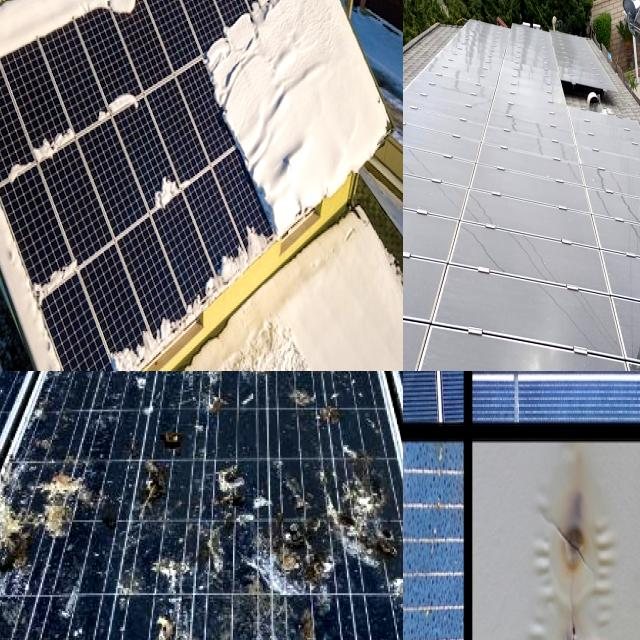bird: (22, 456, 90, 546), (296, 483, 396, 539), (216, 464, 262, 538), (154, 598, 222, 640), (124, 371, 203, 405), (127, 467, 172, 526), (148, 392, 188, 456), (285, 382, 338, 429), (47, 371, 98, 405), (0, 463, 32, 513), (290, 371, 351, 395), (236, 371, 279, 401), (384, 562, 403, 626), (0, 371, 25, 404), (332, 371, 373, 389)
dust: (515, 331, 616, 371), (403, 299, 420, 371)
panel: (223, 116, 290, 232), (190, 10, 252, 110), (19, 252, 89, 306), (208, 228, 278, 270), (0, 37, 53, 90), (30, 119, 81, 172), (144, 164, 192, 218), (93, 0, 169, 32), (103, 335, 169, 371), (90, 80, 143, 124), (0, 102, 20, 196), (32, 7, 88, 40), (1, 147, 42, 190), (256, 0, 331, 23), (280, 0, 335, 28), (38, 349, 107, 371), (168, 280, 207, 316), (137, 0, 194, 22), (240, 0, 309, 18), (195, 0, 250, 20)
shadow: (494, 371, 640, 468), (403, 439, 456, 640), (548, 489, 606, 606), (403, 371, 445, 464)
